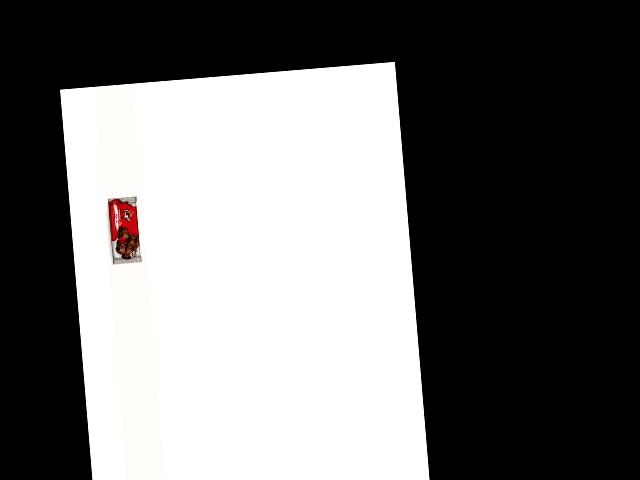chocolate: (91, 185, 138, 266)
